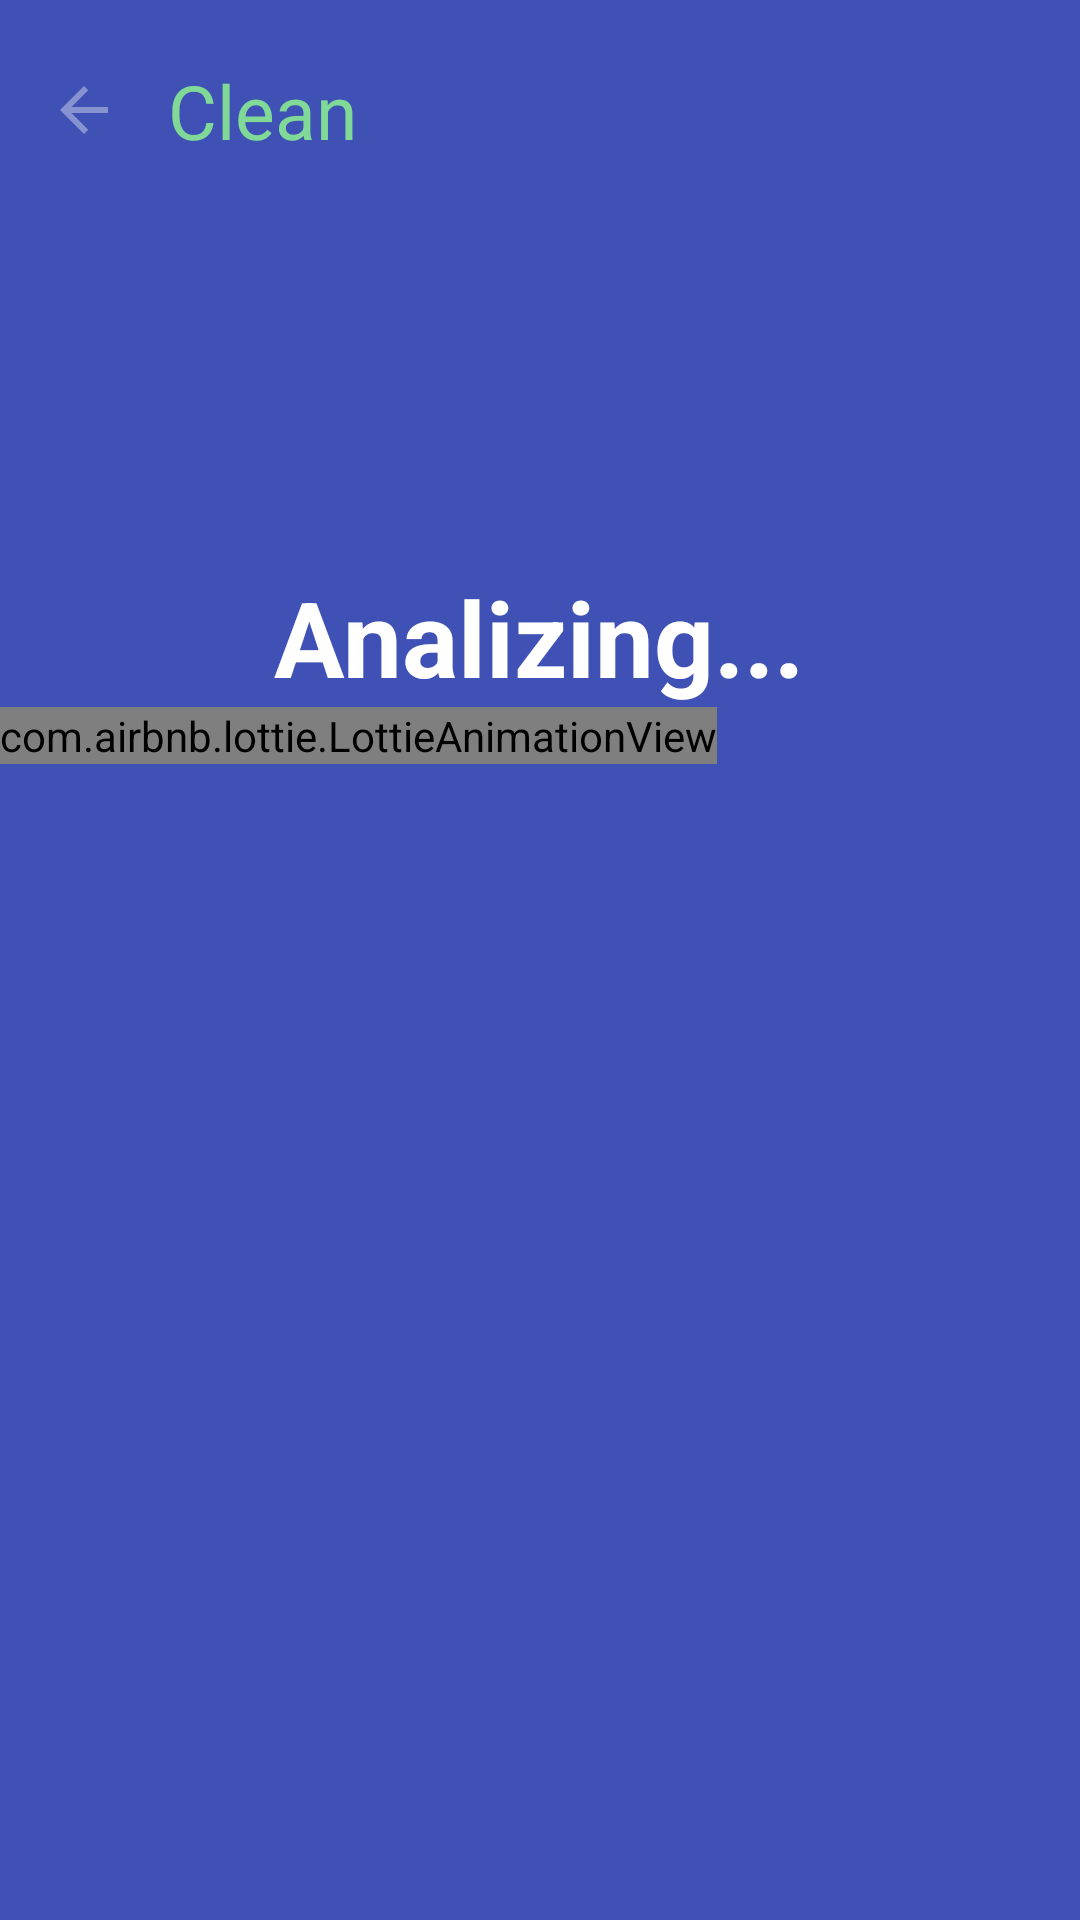

Where to tap for icons on this 1080 × 1920 app screen, as (x=x, y=y):
back: (x=84, y=110)
